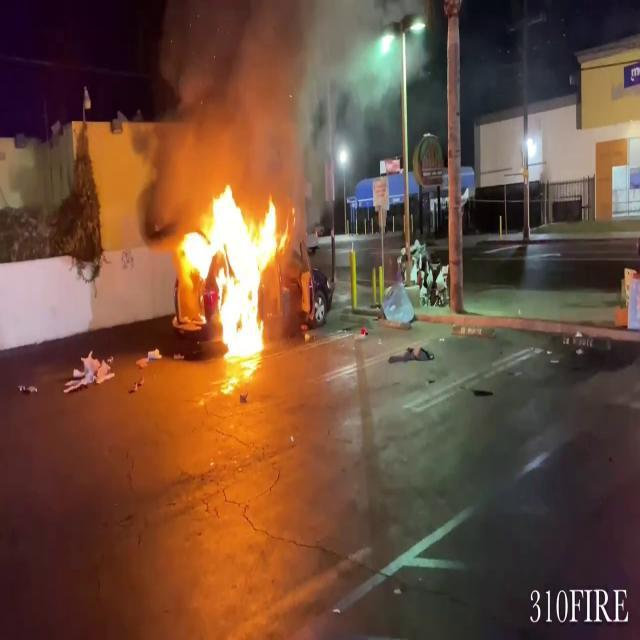Fire: (176, 176, 291, 372)
Smoke: (140, 0, 339, 196)
